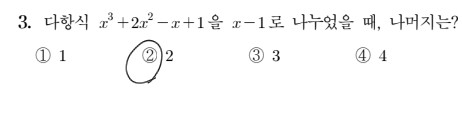1: (122, 38, 163, 87)
paper: (32, 44, 53, 66), (139, 45, 160, 67), (245, 43, 266, 65), (351, 44, 372, 66)
